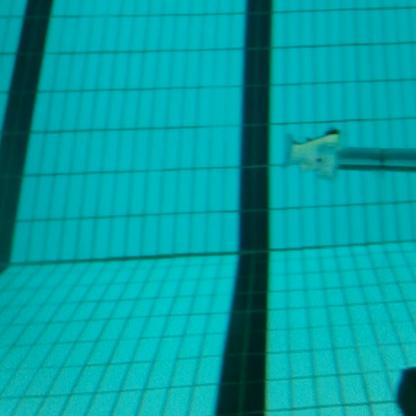tail: (281, 123, 341, 183)
